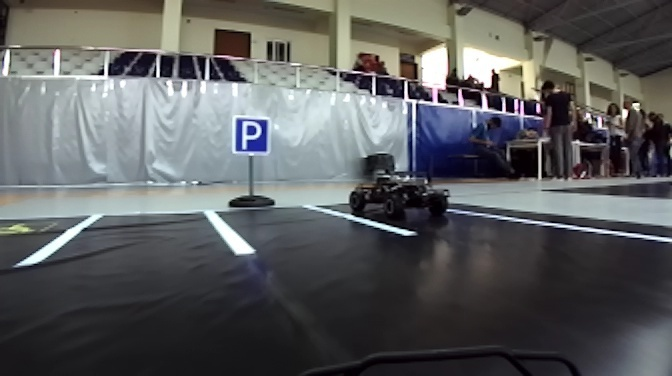park: (229, 112, 276, 159)
